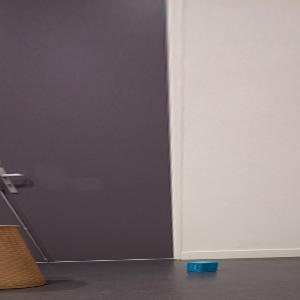medium: (1, 222, 47, 292)
small: (187, 260, 219, 273)
